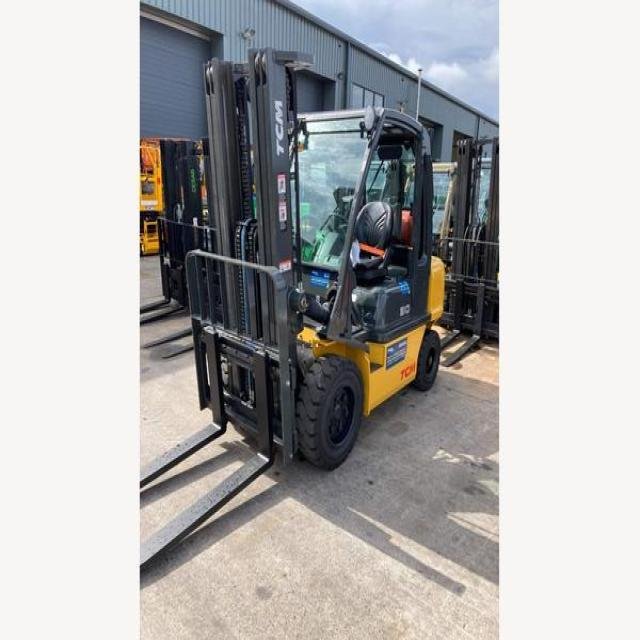forklift: (168, 34, 456, 506)
